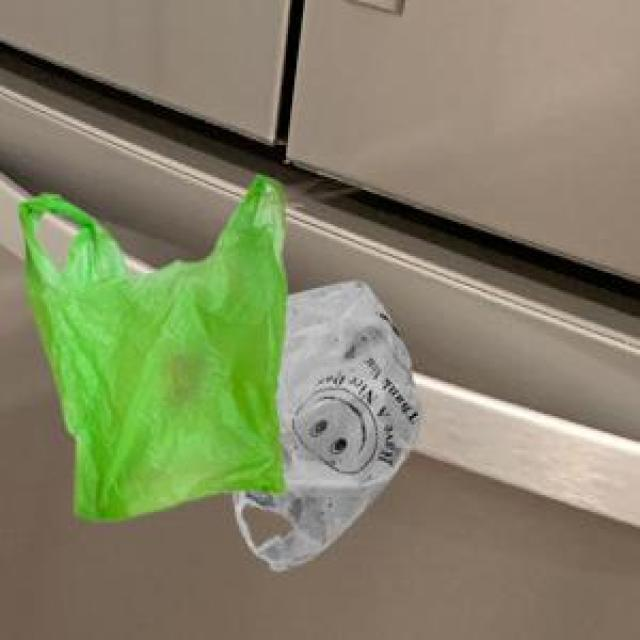waste: (24, 175, 419, 569)
